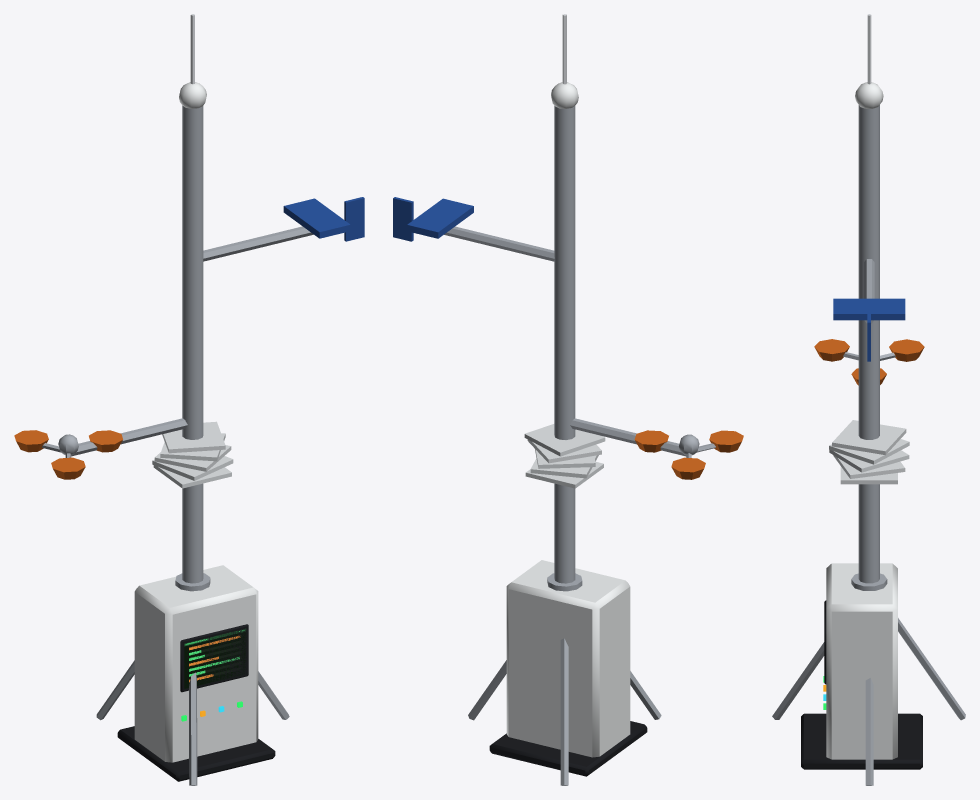
File: sciinstrument_weather_station.glb
3 renders of one model, left to right at view 1: azimuth 30°, elevation 25°; view 2: azimuth 150°, elevation 25°; view 3: azimuth 270°, elevation 25°, orthographic.
Parts seen in each view (by area): view 1: sciinstrument_weather_station; view 2: sciinstrument_weather_station; view 3: sciinstrument_weather_station.
Boxes of the visible parts, x1,y1,x2,y2 form: sciinstrument_weather_station: (14, 14, 364, 785); sciinstrument_weather_station: (393, 14, 743, 785); sciinstrument_weather_station: (772, 14, 965, 785).
Bounding box in the file's own units: 1.06 × 2.25 × 0.5404.
Materials: 11 (1 with a texture image).
